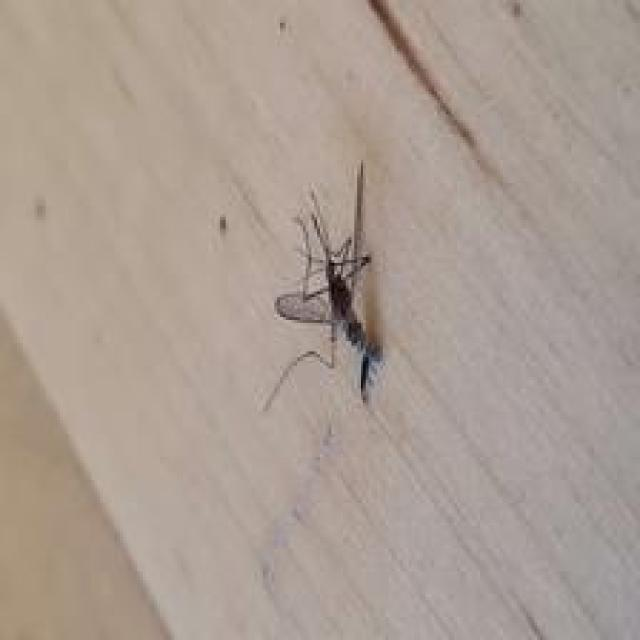Culex: (262, 158, 387, 413)
